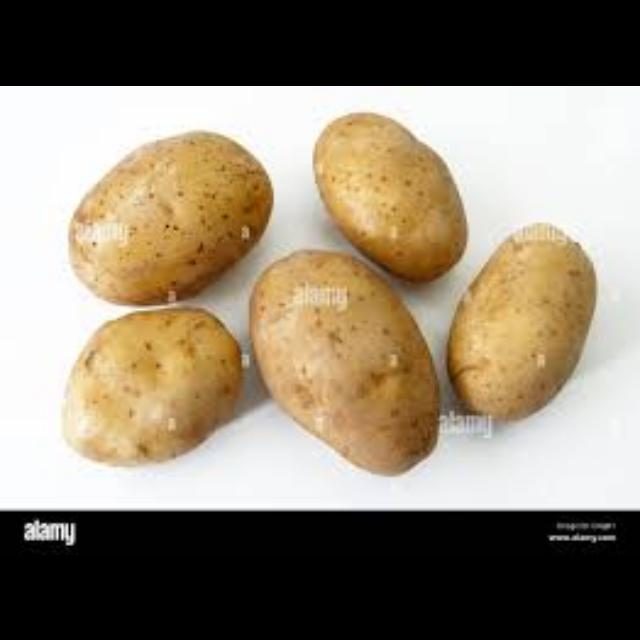Potato: (244, 243, 441, 479), (61, 130, 279, 310), (436, 218, 604, 427), (56, 305, 244, 475), (306, 108, 474, 280)
